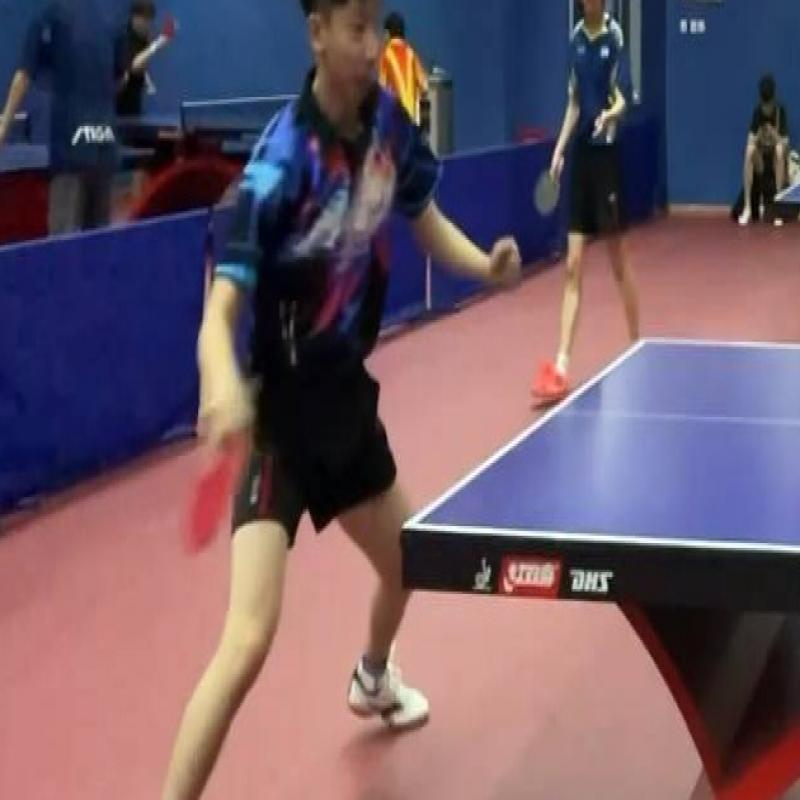bats: (180, 429, 246, 555)
